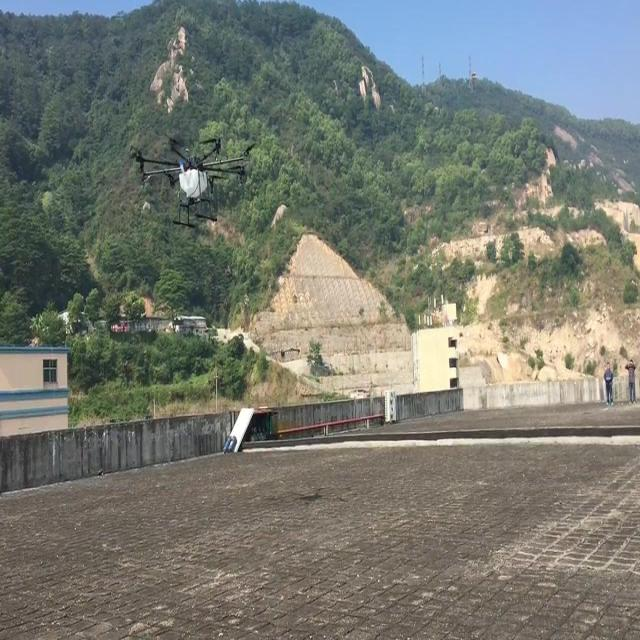drone: (131, 132, 253, 231)
